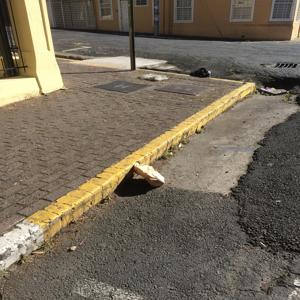paper: (134, 155, 166, 195)
